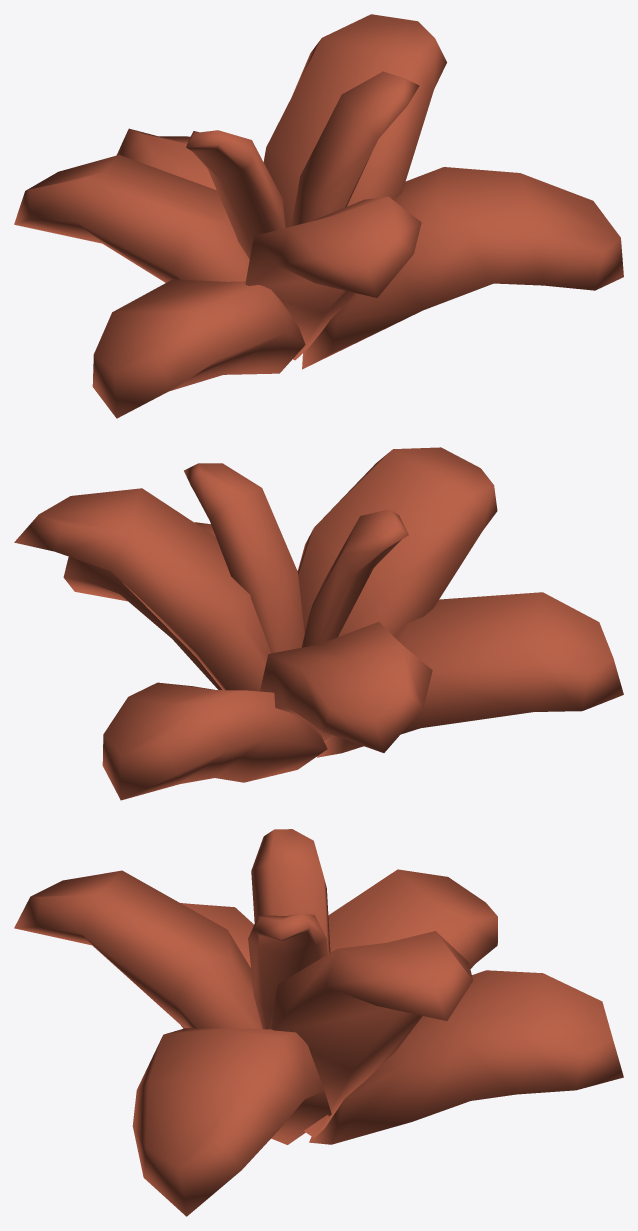
File: Plant_C_02_LOD2.gltf
The picture shows the model from 3 angles, top to bottom: view 1: azimuth 30°, elevation 25°; view 2: azimuth 150°, elevation 25°; view 3: azimuth 270°, elevation 25°; orthographic projection. The views are drawn at different scales.
Parts seen in each view (by area): view 1: Plant_C_02_LOD2_Cube.704; view 2: Plant_C_02_LOD2_Cube.704; view 3: Plant_C_02_LOD2_Cube.704.
Boxes of the visible parts, box(x1,y1,x2,y2) form: Plant_C_02_LOD2_Cube.704: box(14, 14, 623, 418); Plant_C_02_LOD2_Cube.704: box(14, 447, 623, 800); Plant_C_02_LOD2_Cube.704: box(14, 829, 623, 1216).
Bounding box in the file's own units: 6.32 × 3.13 × 6.16.
Materials: 1 (1 with a texture image).
